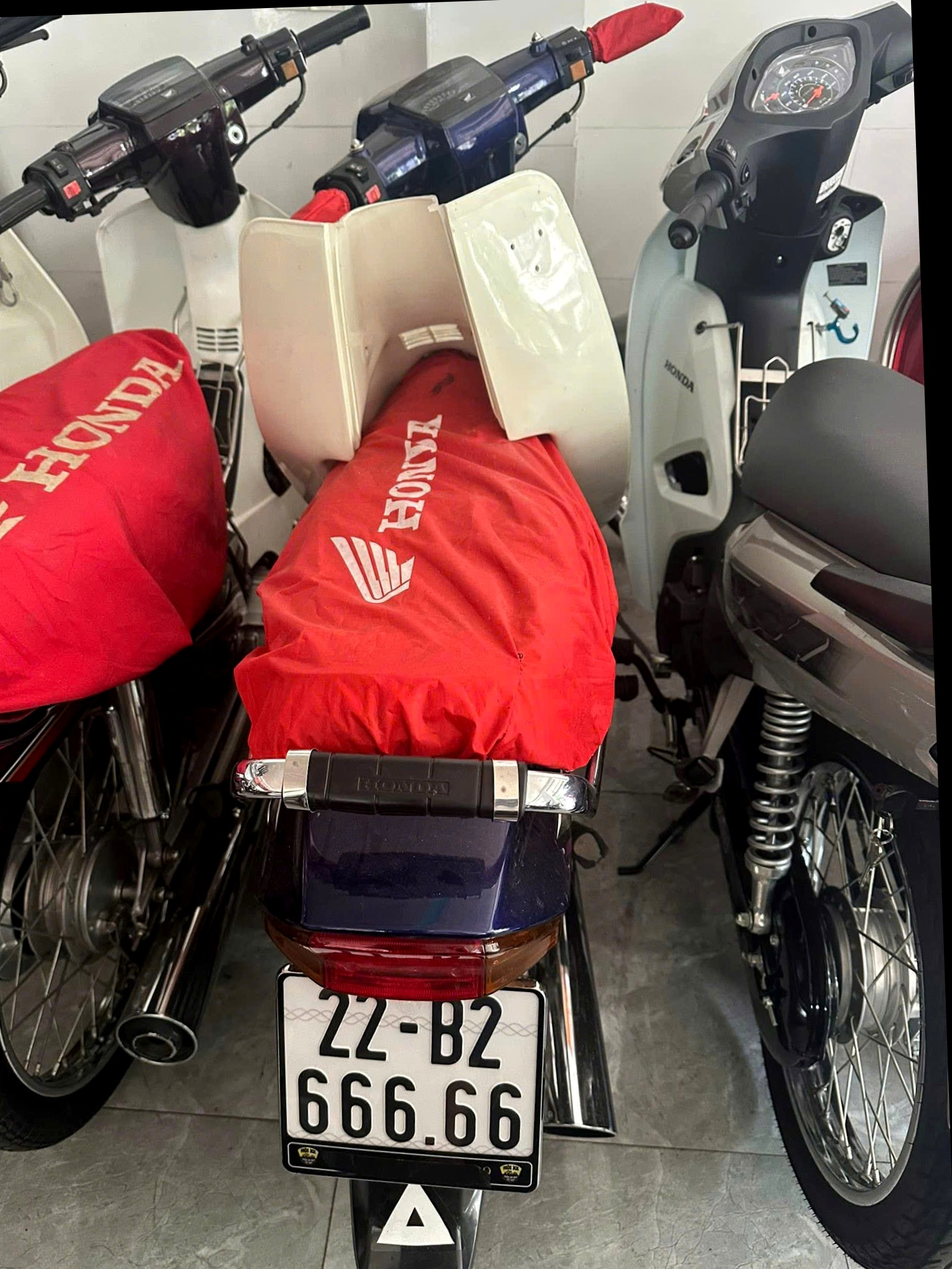Bien-so: (269, 912, 552, 1111)
